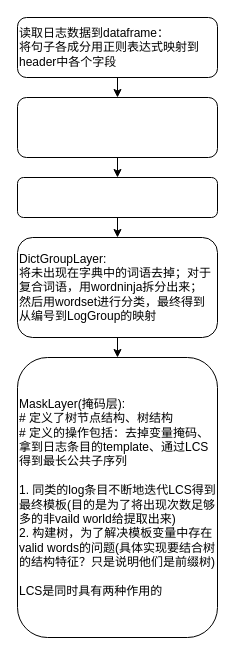
Some shapes in this 235 by 655 pixel diagram are drawn without their labels. Here are the shapes that lost their labels. From the top down, the box of each, then its label:
(16, 96, 218, 158): KnowledgeGroupLayer: 基于常见类型数据对变量部分进行提取，即提取出日期、IP地址等
(16, 176, 218, 218): TokenizeGroupLayer: 用空格、冒号、分号等分割句子成分
